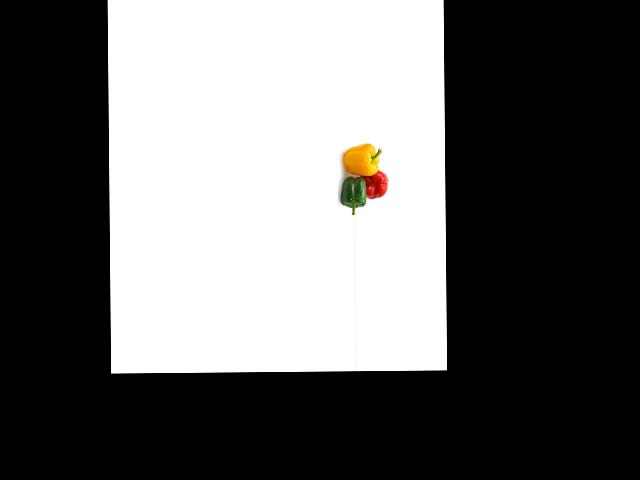bell_pepper: (340, 169, 370, 212)
